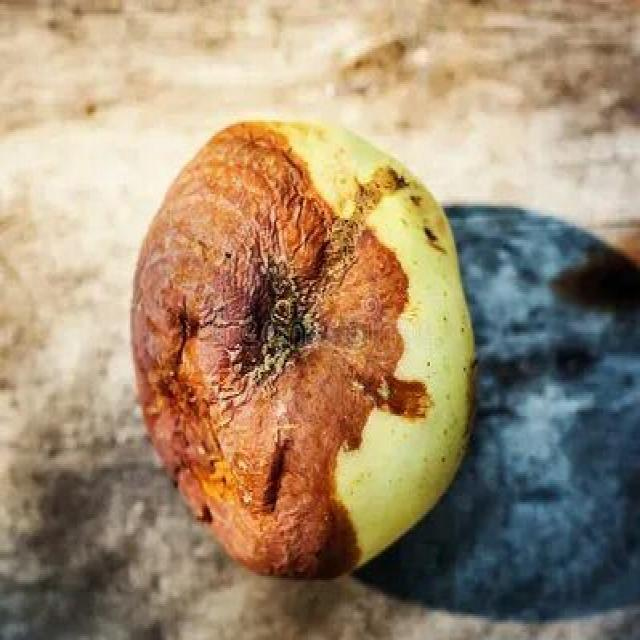Rotten: (142, 114, 468, 574)
